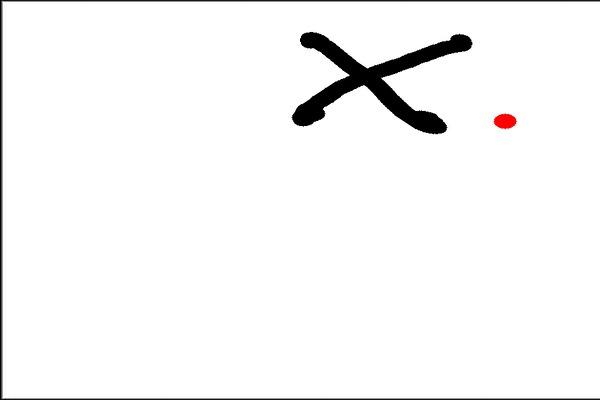X: (275, 15, 487, 148)
